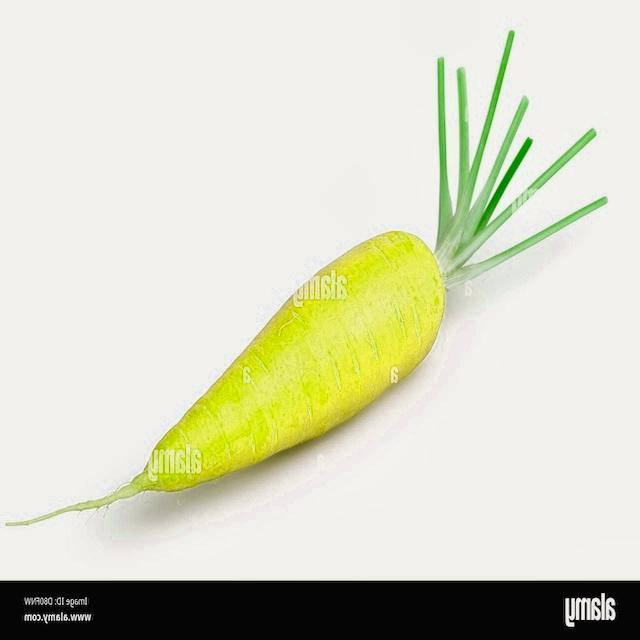carrot: (6, 31, 608, 526)
